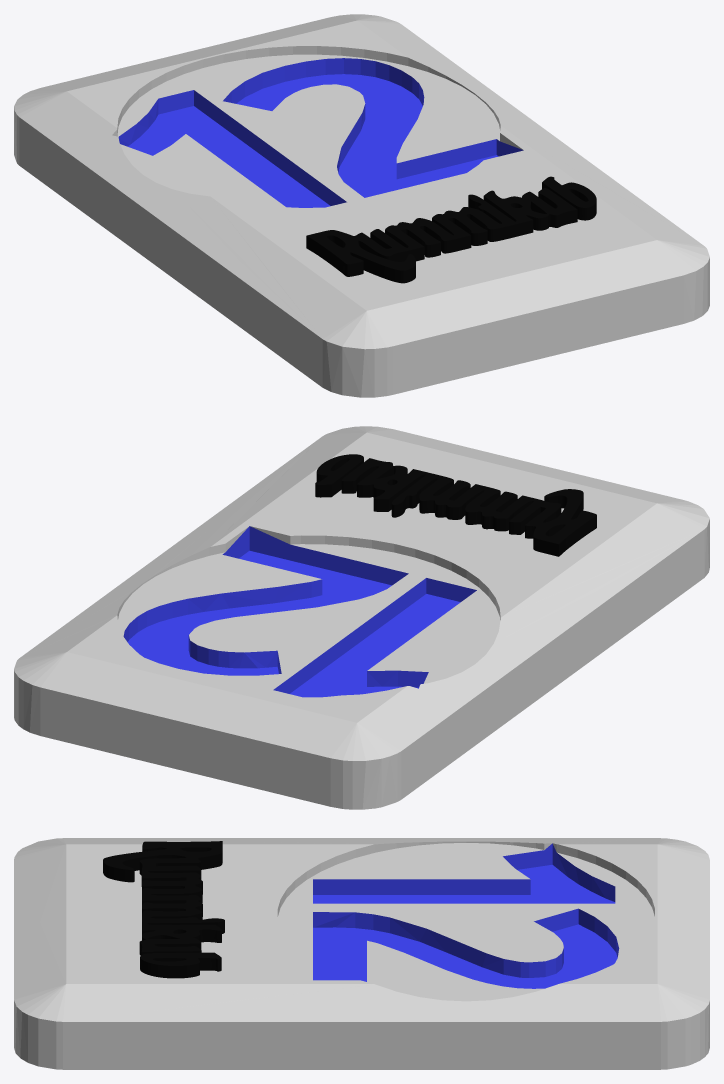
3 views of the same model, one above another, from view 1: azimuth 30°, elevation 25°; view 2: azimuth 150°, elevation 25°; view 3: azimuth 270°, elevation 25° (orthographic).
Visible parts, largest first — view 1: Rummikub 12 Fixed, Rummikub 1 Fixed.001; view 2: Rummikub 12 Fixed, Rummikub 1 Fixed.001; view 3: Rummikub 12 Fixed, Rummikub 1 Fixed.001.
Boxes of the visible parts, x1,y1,x2,y2 form: Rummikub 12 Fixed: (14, 14, 709, 397); Rummikub 1 Fixed.001: (306, 176, 596, 283); Rummikub 12 Fixed: (14, 426, 709, 809); Rummikub 1 Fixed.001: (315, 454, 596, 556); Rummikub 12 Fixed: (14, 838, 709, 1069); Rummikub 1 Fixed.001: (103, 841, 224, 978).
Size of the model in its own units: 2499 by 483 by 4000.
